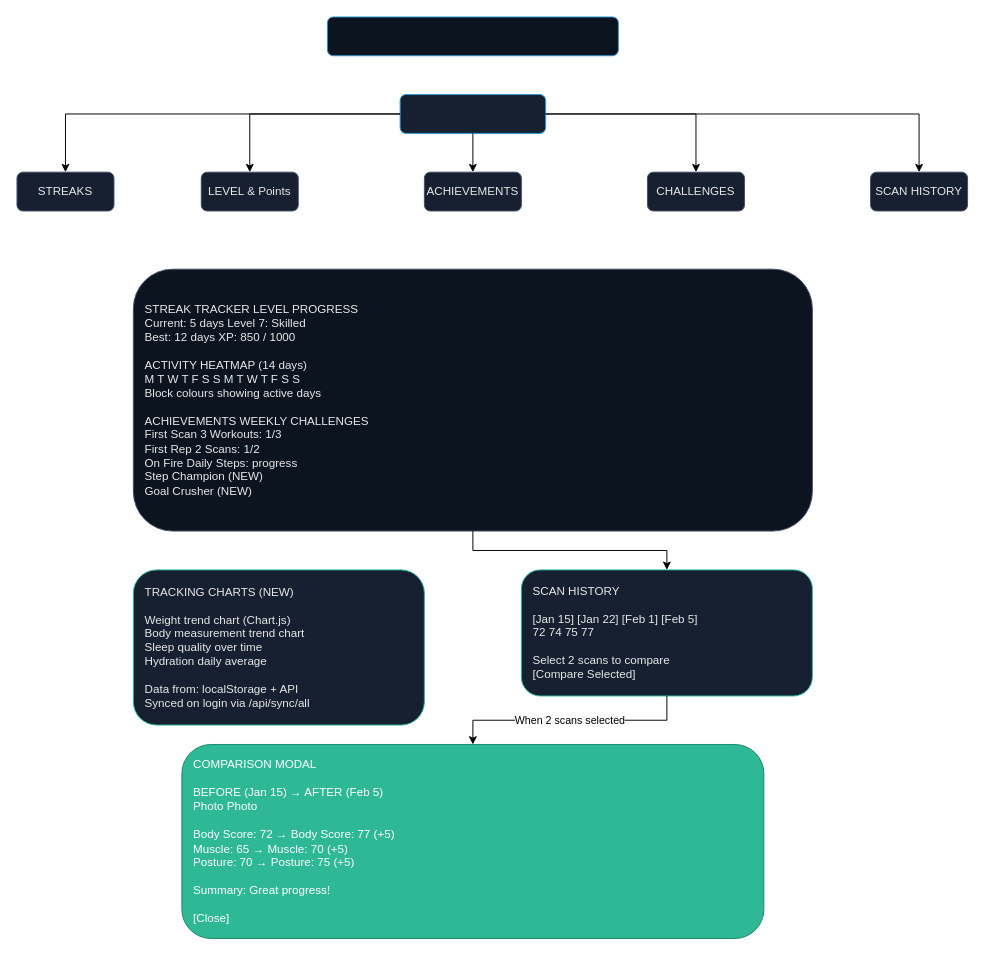
The diagram is 985 pixels wide and 955 high, and some of its shapes have lost their labels. Each missing label, with the box of its shape:
PROGRESS & GAMIFICATION: (326, 16, 618, 56)
PROGRESS SCREEN: (399, 94, 546, 133)
